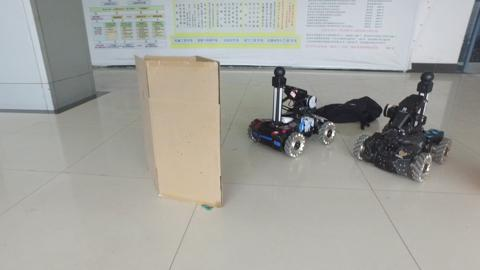box: (134, 54, 230, 210)
chariot: (347, 67, 450, 181), (251, 65, 337, 158)
